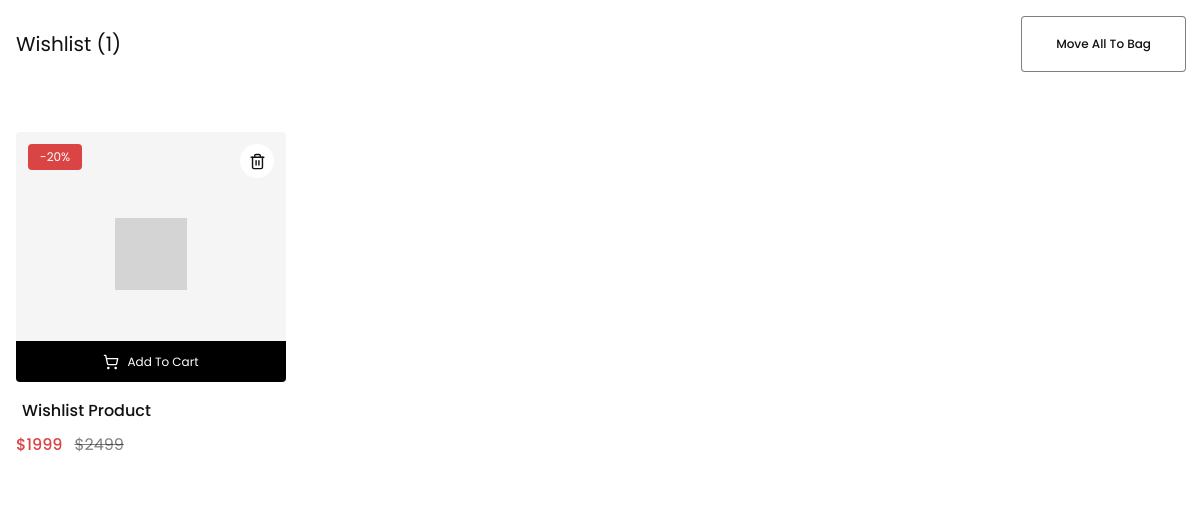
it: WishlistPage › routes to product detail with feedback when no in-stock variant can be found
Expected: the button "Wishlist Product" is shown, [16,398,157,424]
Click the button with aria-label "Move to cart": x=151, y=362 [16,341,286,382]
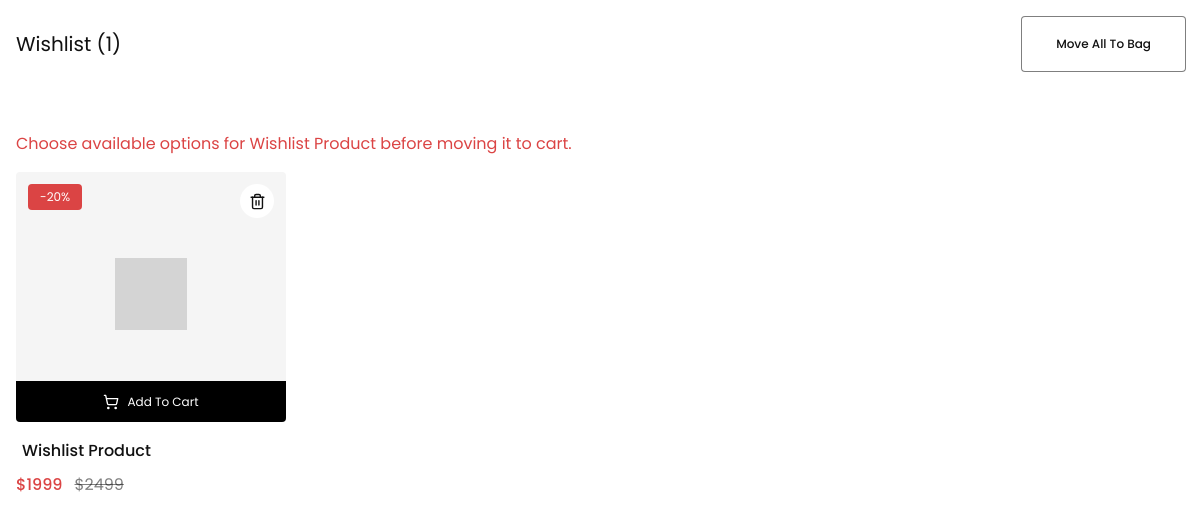
Now the text "Choose available options for Wishlist Product before moving it to cart" is shown, box [16,132,572,155]
